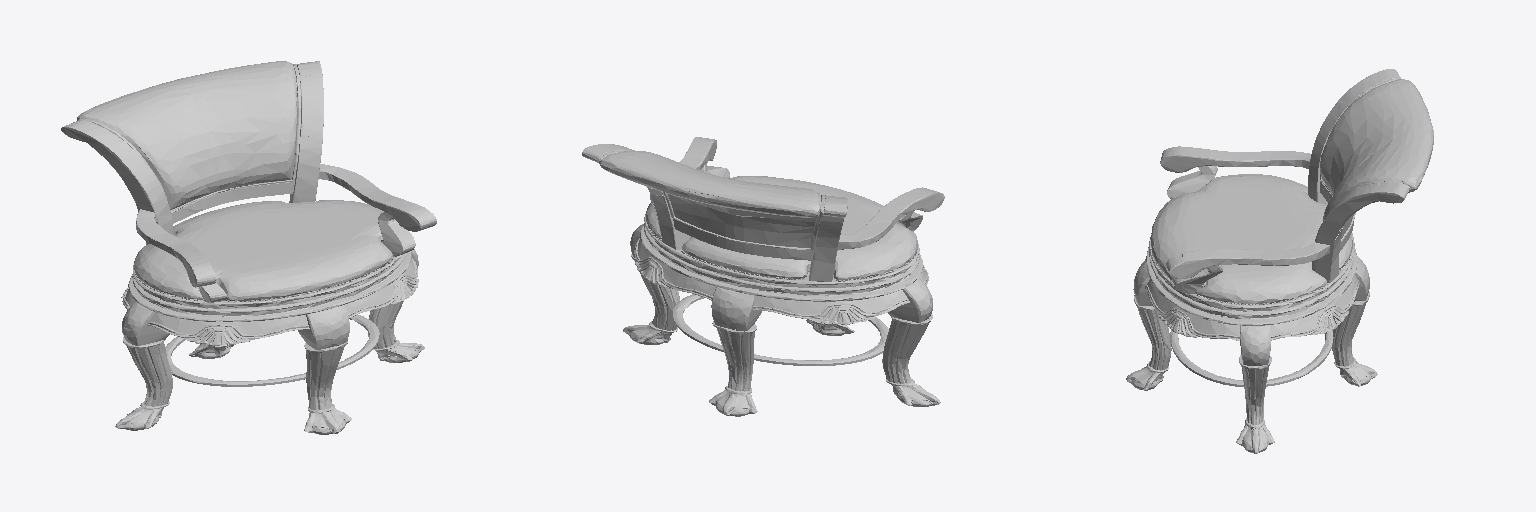
The picture shows the model from 3 angles: view 1: azimuth 30°, elevation 25°; view 2: azimuth 150°, elevation 25°; view 3: azimuth 270°, elevation 25°; orthographic projection.
Visible parts, largest first — view 1: normalized_model.002; view 2: normalized_model.002; view 3: normalized_model.002.
Boxes of the visible parts, x1,y1,x2,y2 form: normalized_model.002: [61, 61, 436, 434]; normalized_model.002: [582, 137, 944, 416]; normalized_model.002: [1126, 69, 1433, 453].
Bounding box in the file's own units: 0.425 × 0.3253 × 0.362.